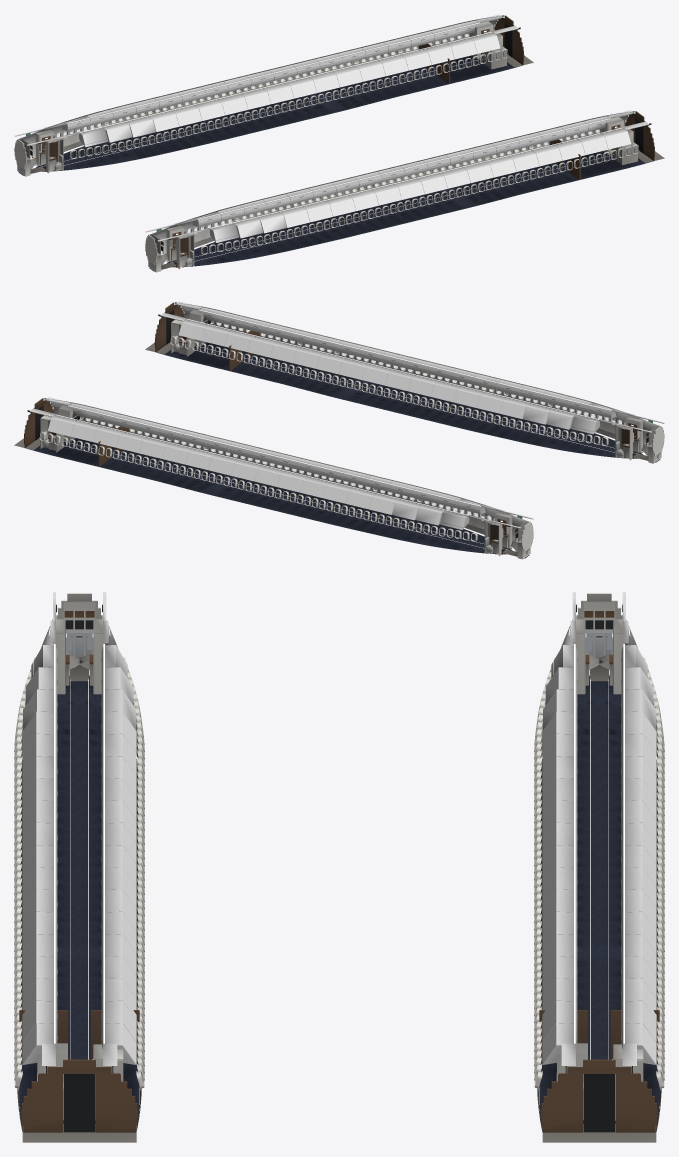
Rendered from ma-tw-cabin.glb.
The picture shows the model from 3 angles, top to bottom: view 1: azimuth 30°, elevation 25°; view 2: azimuth 150°, elevation 25°; view 3: azimuth 270°, elevation 25°; orthographic projection. The views are drawn at different scales.
Visible parts, largest first — view 1: Cabin_Overhead, Cabin_Overhead_B, Cabin_Floor, Cabin_Floor_B, Cabin_Reveals, Cabin_Reveals_B, Cabin_Monuments_B, Cabin_Monuments, Cabin_Lining, Cabin_Lining_B; view 2: Cabin_Overhead_B, Cabin_Overhead, Cabin_Floor_B, Cabin_Floor, Cabin_Reveals_B, Cabin_Reveals, Cabin_Monuments, Cabin_Monuments_B, Cabin_Lining_B, Cabin_Lining; view 3: Cabin_Overhead, Cabin_Overhead_B, Cabin_Floor_B, Cabin_Floor, Cabin_Monuments_B, Cabin_Monuments, Cabin_Reveals, Cabin_Reveals_B.
Boxes of the visible parts, bbox=[...] form: Cabin_Overhead: bbox=[14, 14, 518, 147]; Cabin_Overhead_B: bbox=[145, 110, 649, 242]; Cabin_Floor: bbox=[18, 54, 533, 175]; Cabin_Floor_B: bbox=[149, 150, 664, 271]; Cabin_Reveals: bbox=[53, 33, 508, 158]; Cabin_Reveals_B: bbox=[184, 129, 639, 254]; Cabin_Monuments_B: bbox=[145, 111, 654, 272]; Cabin_Monuments: bbox=[14, 15, 524, 176]; Cabin_Lining: bbox=[14, 16, 504, 171]; Cabin_Lining_B: bbox=[145, 112, 633, 266]; Cabin_Overhead_B: bbox=[160, 301, 664, 434]; Cabin_Overhead: bbox=[29, 397, 533, 529]; Cabin_Floor_B: bbox=[145, 342, 660, 462]; Cabin_Floor: bbox=[14, 438, 529, 558]; Cabin_Reveals_B: bbox=[170, 321, 625, 445]; Cabin_Reveals: bbox=[39, 416, 494, 541]; Cabin_Monuments: bbox=[24, 398, 533, 559]; Cabin_Monuments_B: bbox=[154, 302, 664, 463]; Cabin_Lining_B: bbox=[179, 303, 664, 458]; Cabin_Lining: bbox=[45, 399, 533, 553]; Cabin_Overhead: bbox=[542, 592, 656, 1065]; Cabin_Overhead_B: bbox=[22, 592, 136, 1065]; Cabin_Floor_B: bbox=[19, 665, 139, 1142]; Cabin_Floor: bbox=[539, 665, 659, 1142]; Cabin_Monuments_B: bbox=[19, 593, 139, 1132]; Cabin_Monuments: bbox=[539, 593, 659, 1132]; Cabin_Reveals: bbox=[534, 657, 664, 1090]; Cabin_Reveals_B: bbox=[14, 657, 144, 1090].
Size of the model in its own units: 35.28 by 2.46 by 20.04.
22 materials, 7 textured.
